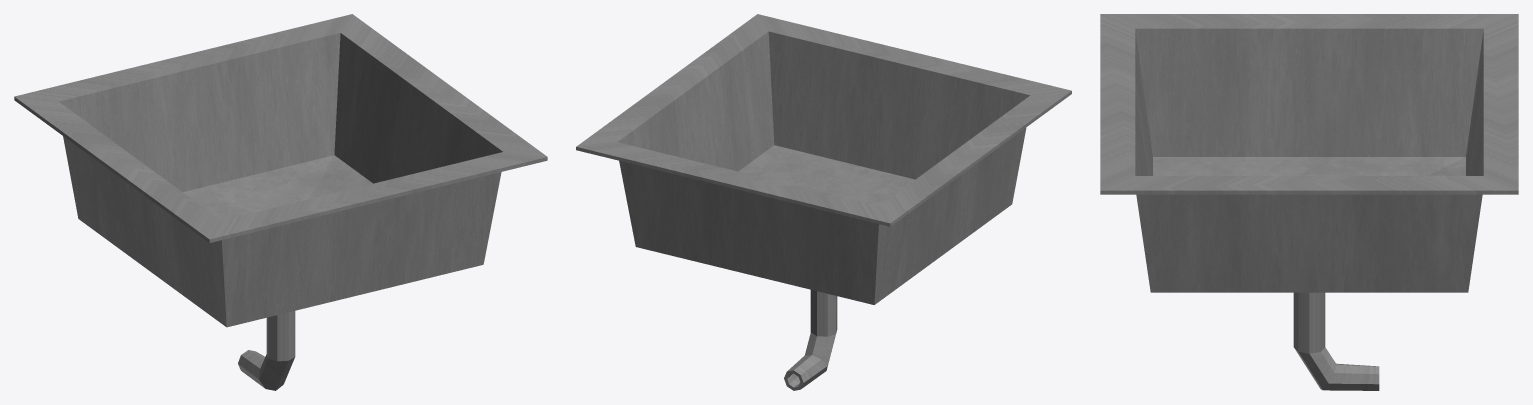
Rendered from Sink.fbx.
The picture shows the model from 3 angles, left to right: view 1: azimuth 30°, elevation 25°; view 2: azimuth 150°, elevation 25°; view 3: azimuth 270°, elevation 25°; orthographic projection. The views are drawn at different scales.
Parts seen in each view (by area): view 1: Sink; view 2: Sink; view 3: Sink.
Boxes of the visible parts, left/top/right/bottom form: Sink: left=14, top=14, right=547, bottom=390; Sink: left=576, top=14, right=1071, bottom=390; Sink: left=1100, top=14, right=1518, bottom=390.
Size of the model in its own units: 48 by 36.5 by 48.
1 material, 1 textured.
